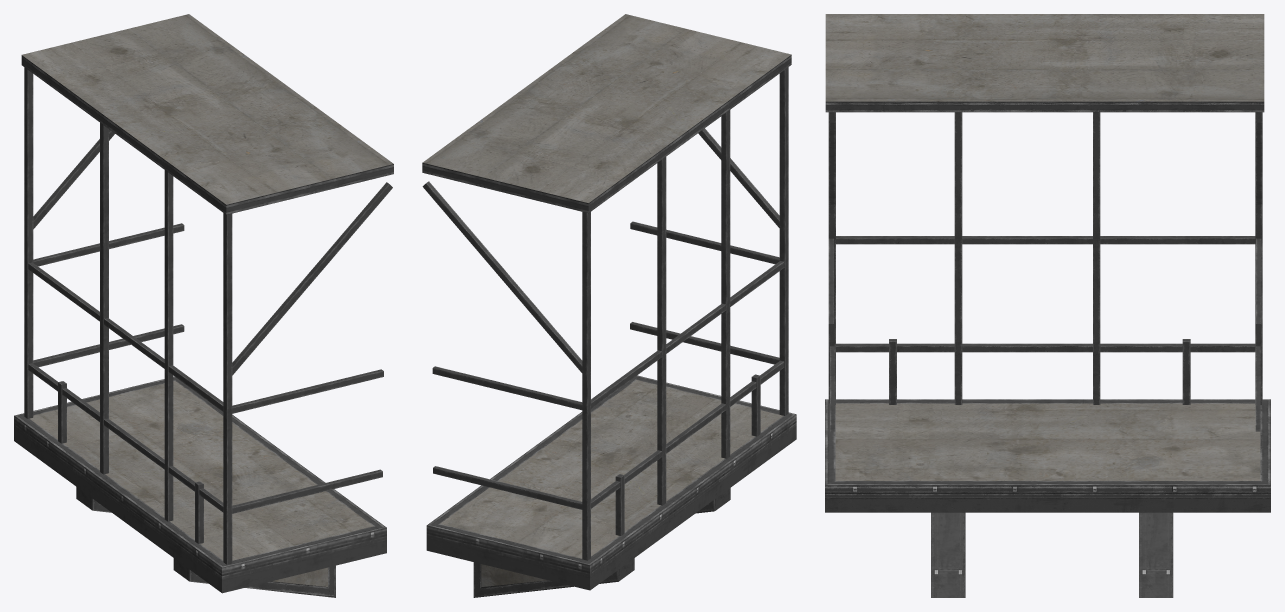
Rendered from CP_Balcony_04.fbx.
3 views of the same model, side by side, from view 1: azimuth 30°, elevation 25°; view 2: azimuth 150°, elevation 25°; view 3: azimuth 270°, elevation 25° (orthographic). The views are drawn at different scales.
Parts seen in each view (by area): view 1: CP_Balcony_04; view 2: CP_Balcony_04; view 3: CP_Balcony_04.
Boxes of the visible parts, <box> form: CP_Balcony_04: <box>14,14,393,597</box>; CP_Balcony_04: <box>422,14,796,597</box>; CP_Balcony_04: <box>825,14,1270,597</box>.
Bounding box in the file's own units: 141 × 364 × 294.
